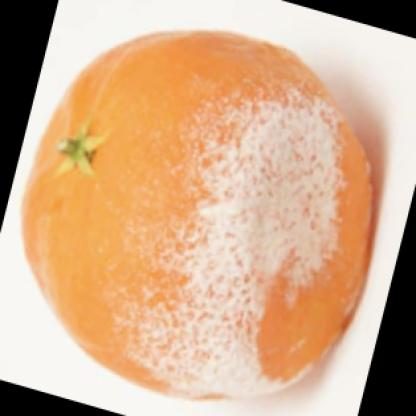rotten: (20, 31, 375, 398)
